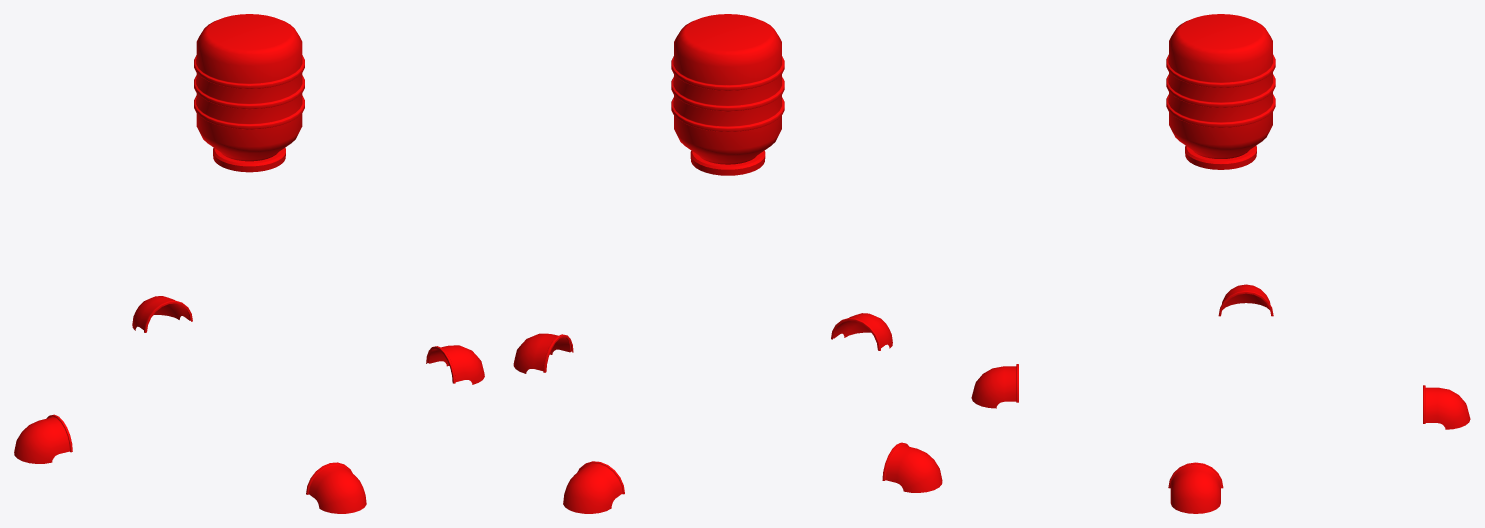
Rendered from EvilbuildingUPDGRADES.fbx.
3 views of the same model, side by side, from view 1: azimuth 30°, elevation 25°; view 2: azimuth 150°, elevation 25°; view 3: azimuth 270°, elevation 25° (orthographic). The views are drawn at different scales.
Parts seen in each view (by area): view 1: polySurface1277; view 2: polySurface1277; view 3: polySurface1277.
Part boxes in pixels (bbox=[...]): polySurface1277: bbox=[14, 14, 484, 513]; polySurface1277: bbox=[513, 14, 942, 513]; polySurface1277: bbox=[971, 14, 1470, 513].
Size of the model in its own units: 1.97 by 1.64 by 1.97.
